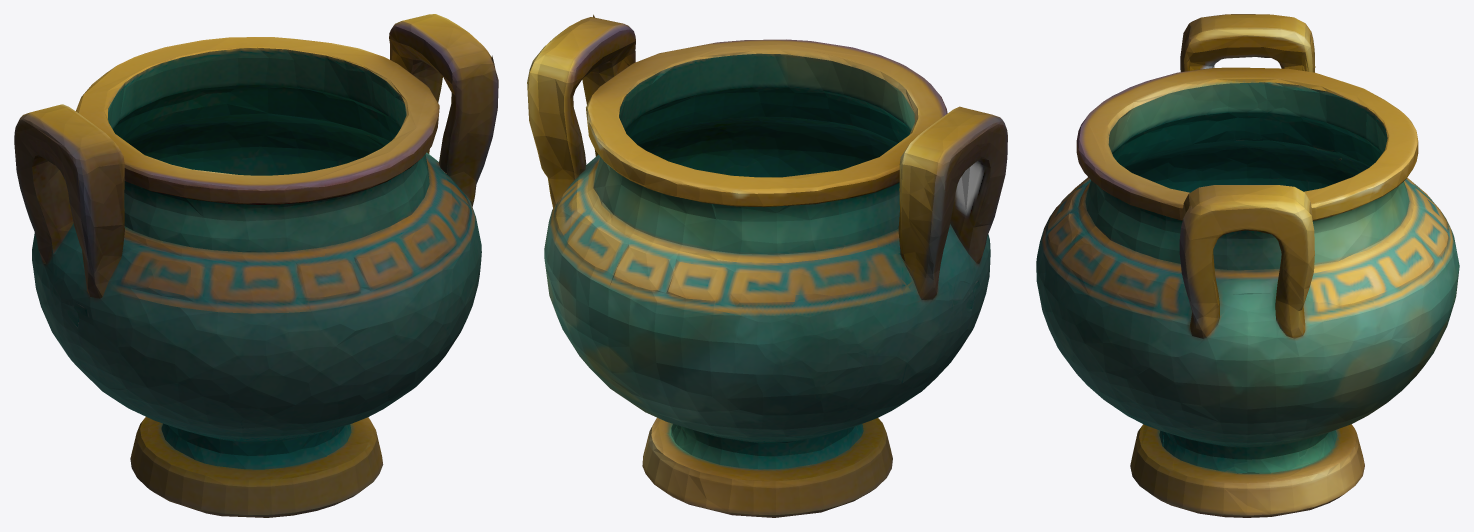
Rendered from forest_krater.glb.
3 renders of one model, left to right at view 1: azimuth 30°, elevation 25°; view 2: azimuth 150°, elevation 25°; view 3: azimuth 270°, elevation 25°, orthographic. The views are drawn at different scales.
Parts seen in each view (by area): view 1: world; view 2: world; view 3: world.
Boxes of the visible parts, <box> form: world: <box>14,14,498,517</box>; world: <box>527,14,1007,517</box>; world: <box>1036,14,1459,517</box>.
Bounding box in the file's own units: 1 × 0.8926 × 0.9301.
Materials: 1 (1 with a texture image).
